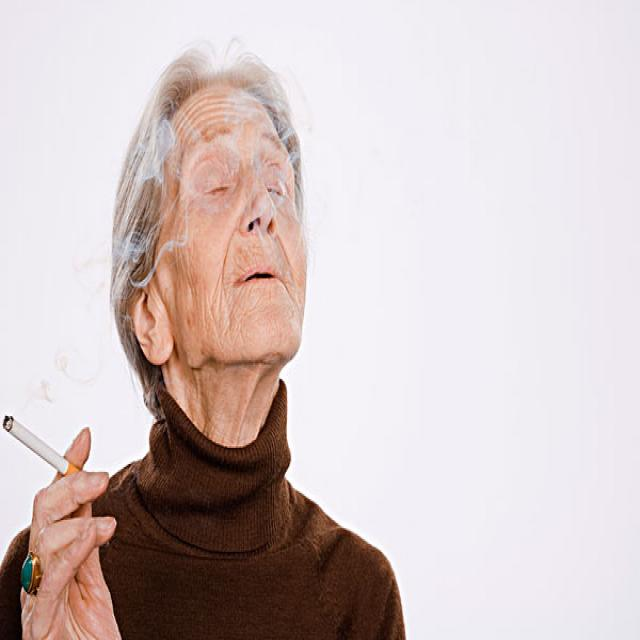smoking: (1, 414, 81, 483)
